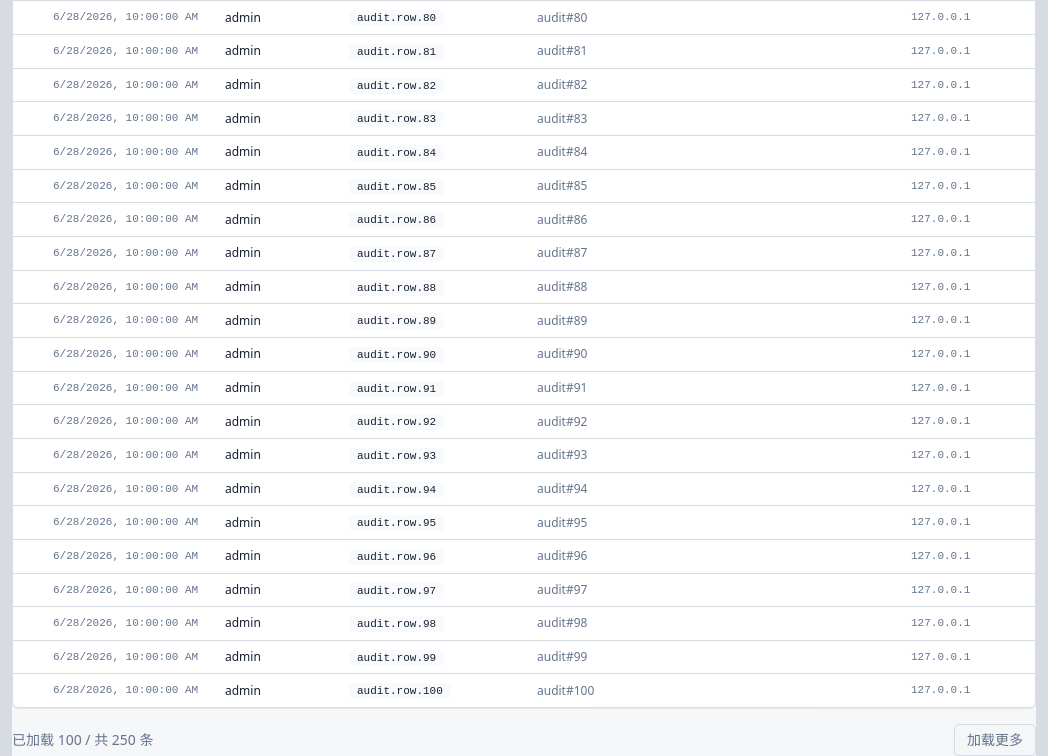
Test: AuditPage（mock 假后端） › 加载更多按 100 条分页请求并可累计浏览超过 200 条数据
(page scrolled)
Click the button "加载更多".
click(995, 740)  # box x1=954 y1=724 x2=1036 y2=755
(page scrolled)
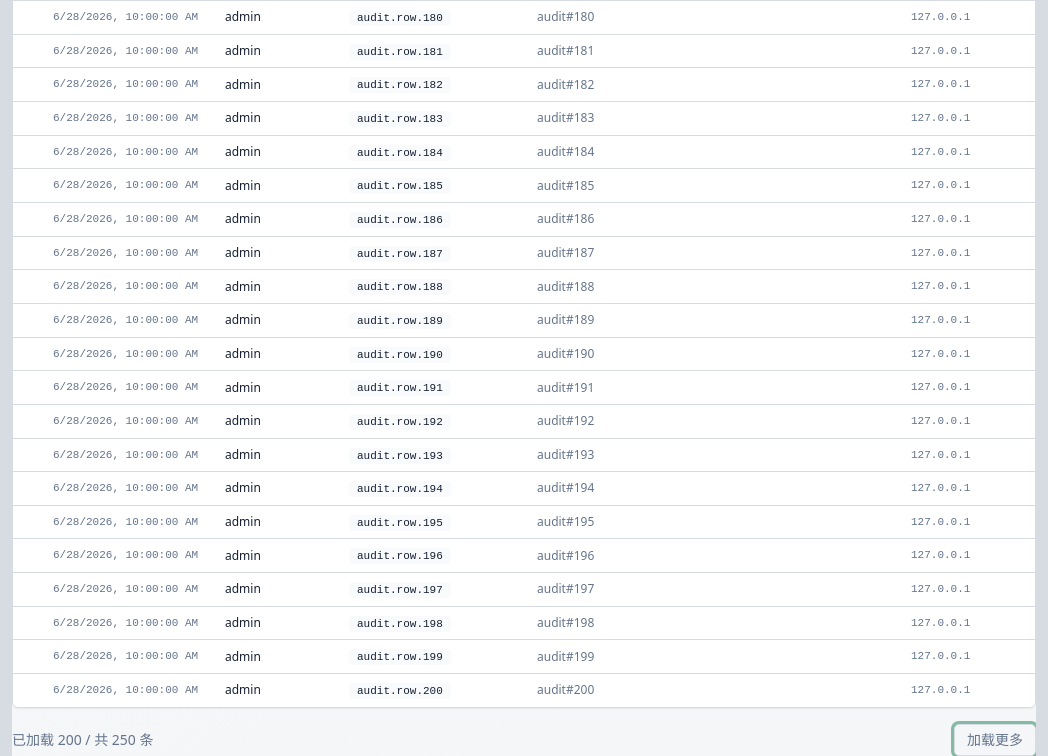
Result: the text "已加载 200 / 共 250 条" is shown at x1=12 y1=730 x2=154 y2=750
Click the button "加载更多".
click(995, 740)  # box x1=954 y1=724 x2=1036 y2=755
(page scrolled)
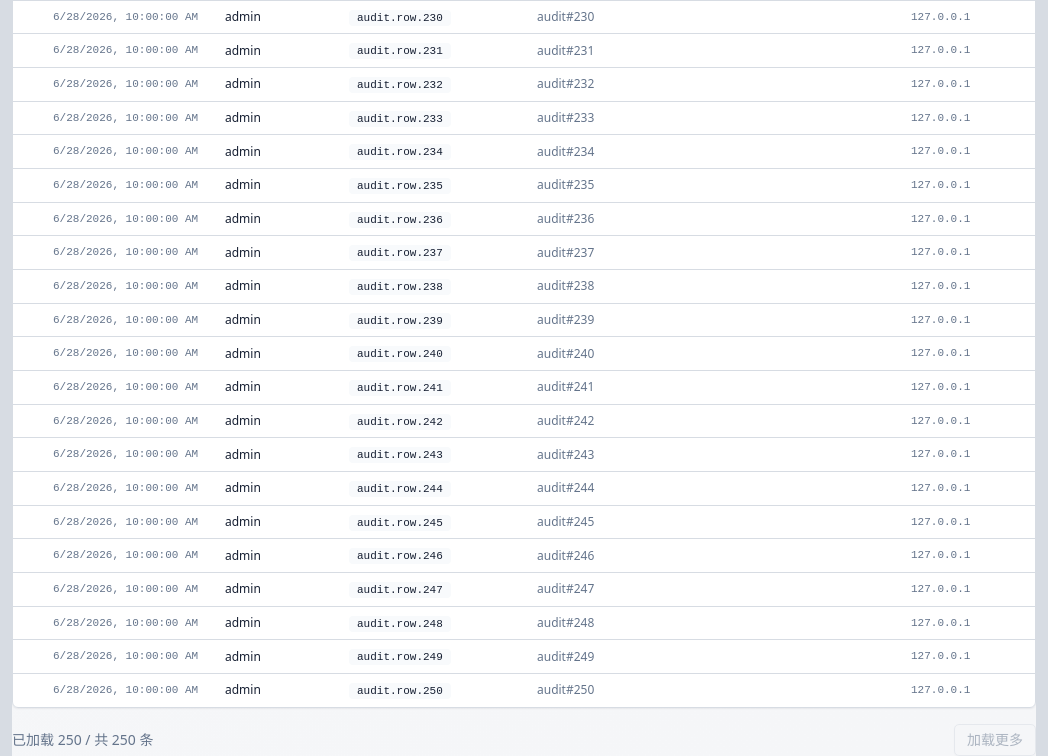
Result: the text "audit.row.250" is shown at x1=349 y1=683 x2=451 y2=699
Result: the text "已加载 250 / 共 250 条" is shown at x1=12 y1=730 x2=154 y2=750
Result: the button "加载更多" is disabled at x1=954 y1=724 x2=1036 y2=755
